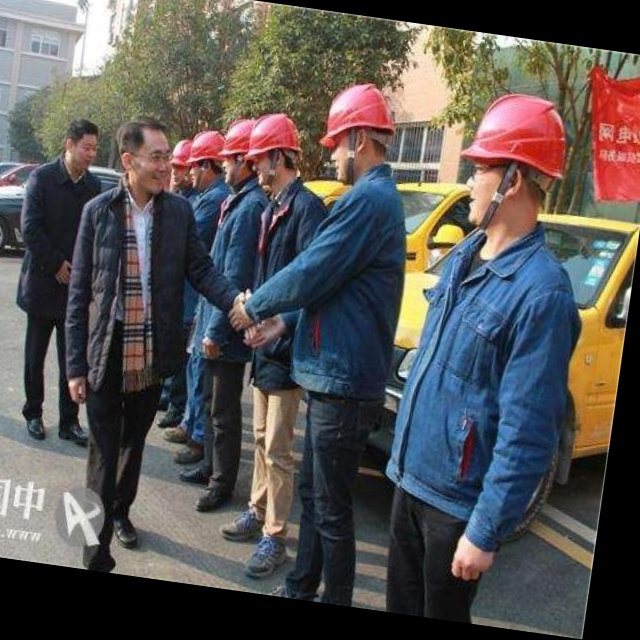Con_Casco: (313, 77, 403, 188)
Sin_Casco_Mascarrilla: (107, 112, 179, 199)
